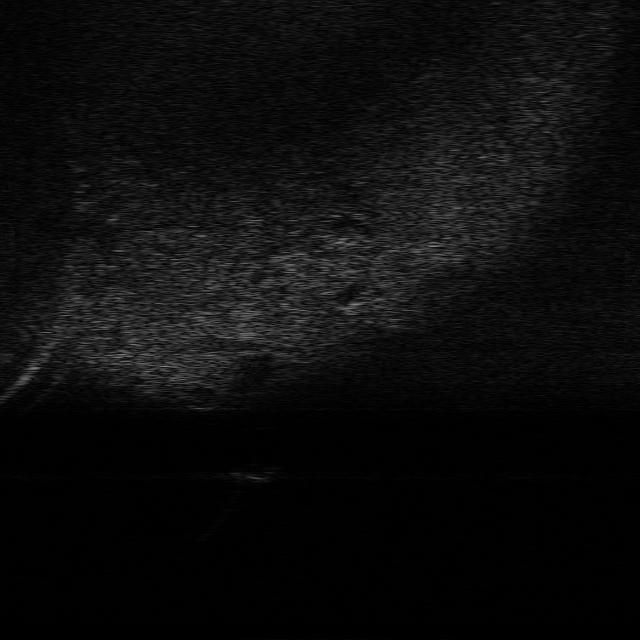cube: (230, 461, 281, 483)
